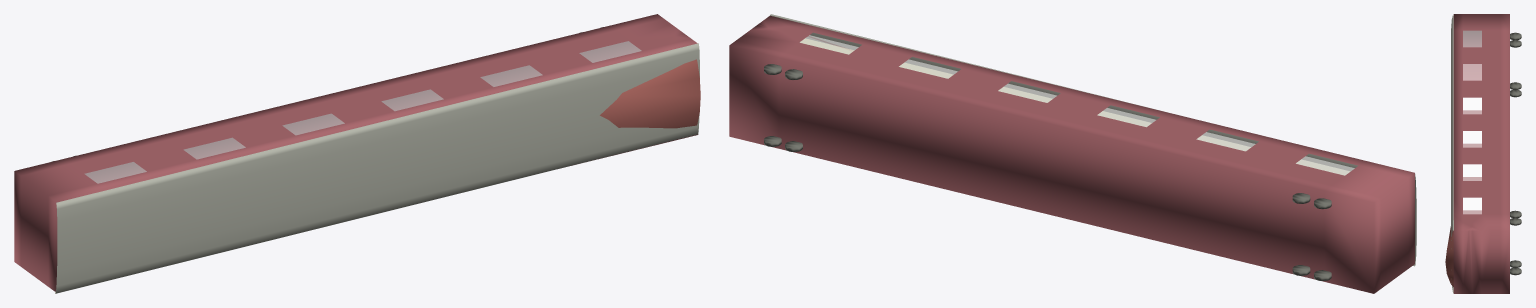
Rendered from asset6.glb.
3 views of the same model, side by side, from view 1: azimuth 30°, elevation 25°; view 2: azimuth 150°, elevation 25°; view 3: azimuth 270°, elevation 25° (orthographic). The views are drawn at different scales.
Parts seen in each view (by area): view 1: Cylinder2, Cube1, Cylinder3, Cube12; view 2: Cube1, Cylinder2, Cube12, Cube13; view 3: Cube1, Cube12, Cylinder2, Cylinder3, Cylinder4_copy6, Cylinder4_copy8, Cylinder4_copy10, Cylinder4_copy9, Cylinder4_copy7, Cylinder4, Cylinder4_copy5, Cylinder4_copy11.
Part boxes in pixels (box(x1,y1,x2,y2)): Cylinder2: box(55, 43, 699, 293); Cube1: box(14, 14, 698, 291); Cylinder3: box(600, 59, 700, 128); Cube12: box(85, 41, 641, 183); Cube1: box(729, 15, 1414, 293); Cylinder2: box(770, 14, 1416, 266); Cube12: box(800, 35, 1354, 175); Cube13: box(800, 38, 1349, 175); Cube1: box(1453, 14, 1509, 293); Cube12: box(1463, 30, 1481, 214); Cylinder2: box(1451, 15, 1453, 292); Cylinder3: box(1445, 226, 1453, 286); Cylinder4_copy6: box(1510, 267, 1521, 275); Cylinder4_copy8: box(1510, 89, 1521, 97); Cylinder4_copy10: box(1510, 260, 1521, 267); Cylinder4_copy9: box(1510, 40, 1521, 47); Cylinder4_copy7: box(1510, 218, 1521, 225); Cylinder4: box(1510, 82, 1521, 89); Cylinder4_copy5: box(1510, 32, 1521, 39); Cylinder4_copy11: box(1510, 210, 1521, 217).
Size of the model in its own units: 1 by 0.1402 by 0.1482.
